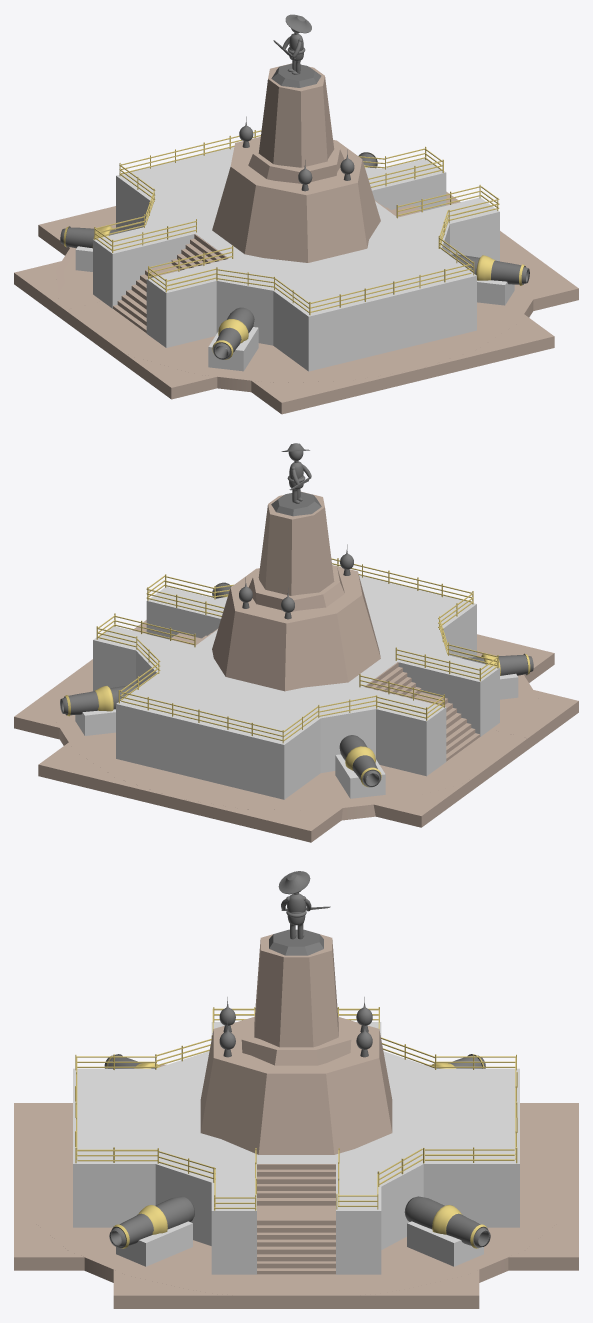
File: Pomparjun.fbx
The picture shows the model from 3 angles, top to bottom: view 1: azimuth 30°, elevation 25°; view 2: azimuth 150°, elevation 25°; view 3: azimuth 270°, elevation 25°; orthographic projection. The views are drawn at different scales.
Parts seen in each view (by area): view 1: polySurface296; view 2: polySurface296; view 3: polySurface296.
Part boxes in pixels (x1,y1,x2,y2): polySurface296: [14, 14, 578, 414]; polySurface296: [14, 443, 578, 842]; polySurface296: [14, 871, 578, 1308].
Size of the model in its own units: 12.86 by 8.32 by 13.3.
